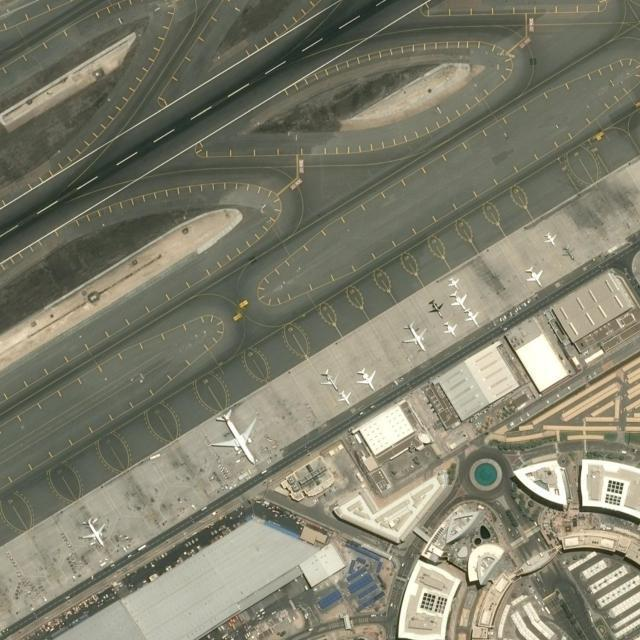Aircraft: (211, 411, 259, 468), (80, 516, 106, 549), (403, 323, 428, 355), (357, 368, 377, 394), (448, 291, 470, 313), (525, 267, 544, 289), (320, 370, 340, 390), (335, 391, 353, 409), (464, 310, 480, 329), (442, 322, 458, 340), (428, 300, 442, 320), (562, 245, 576, 261), (543, 232, 557, 245), (448, 277, 460, 290)
